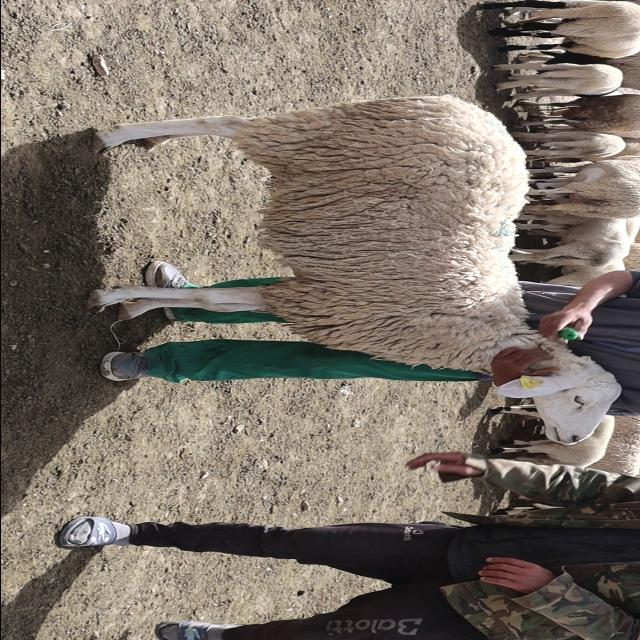Score_2: (88, 95, 620, 445)
